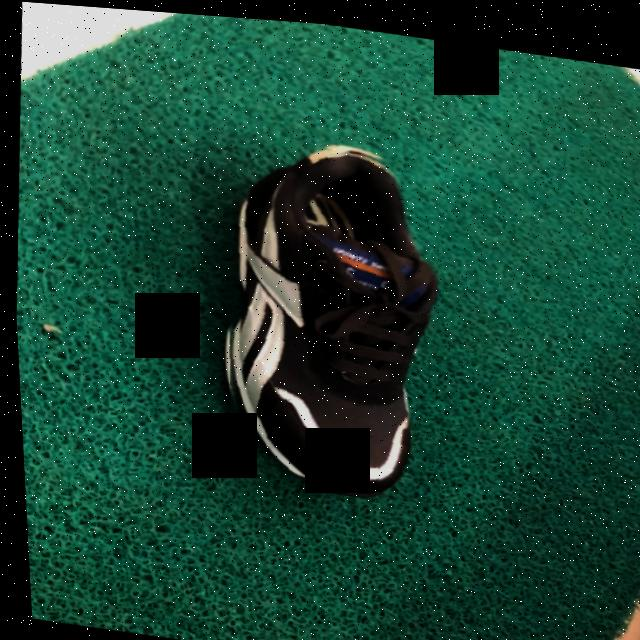shoe: (224, 145, 434, 493)
